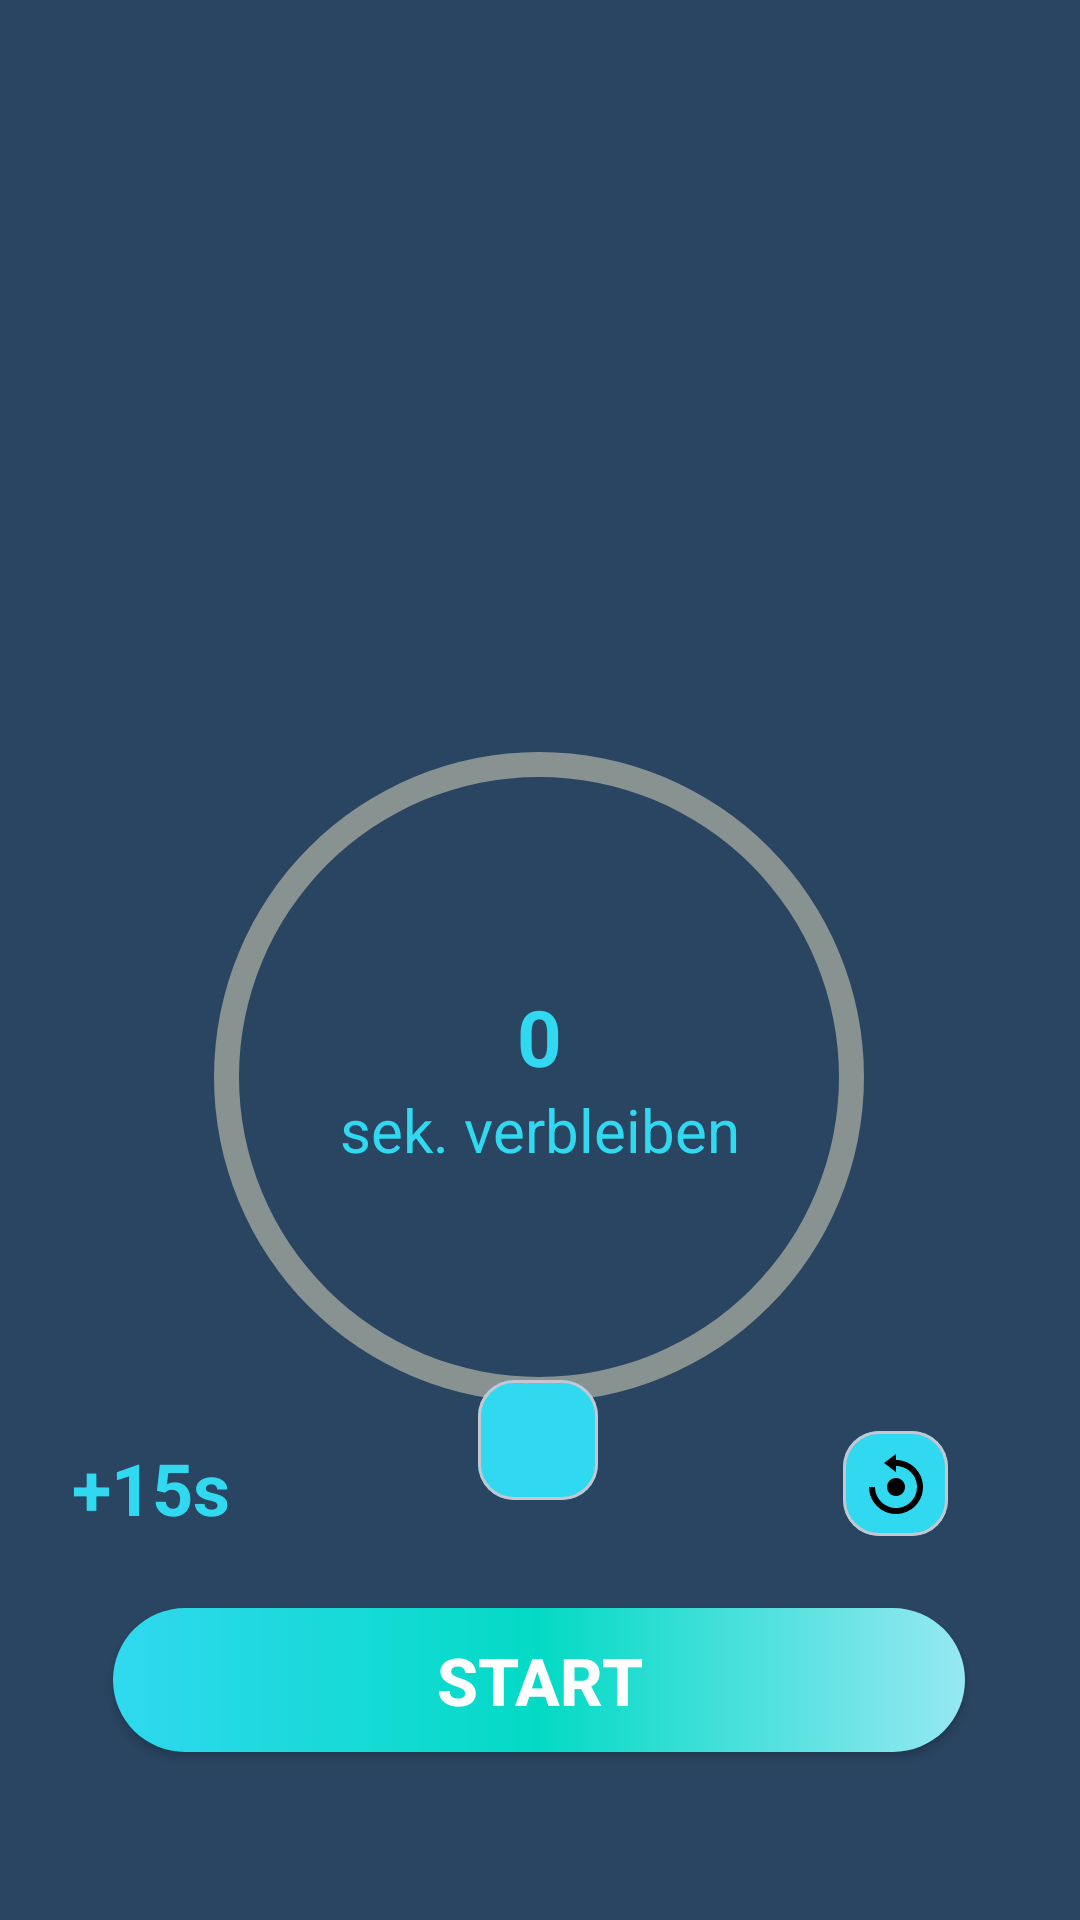

Where icons sit on this 1080 x 1920 app screen, as (x1, y1, x2, y2):
reset: (843, 1431, 948, 1536)
